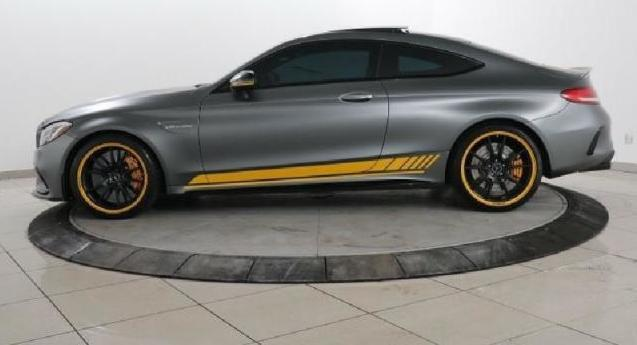C63AMG: (26, 19, 623, 228)
